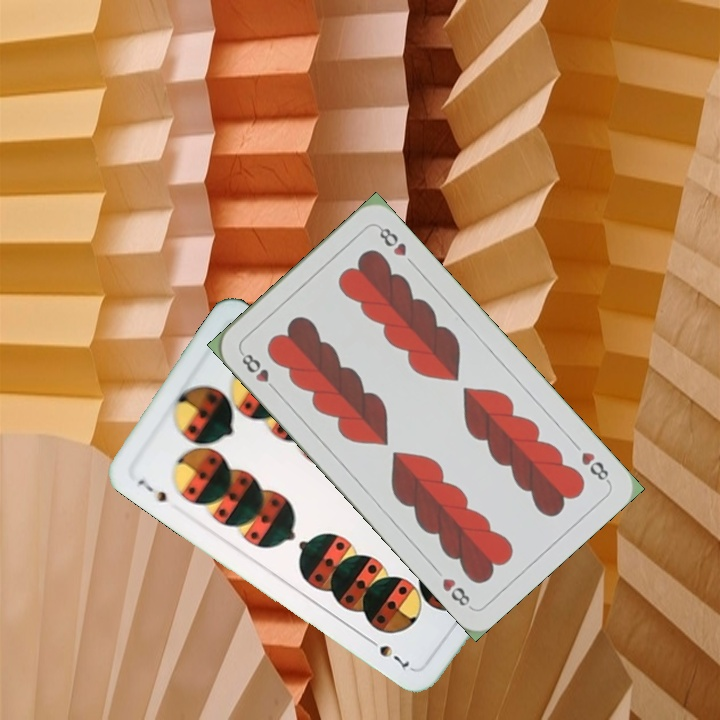H8: (236, 348, 281, 395), (577, 447, 613, 486)
S7: (133, 475, 172, 506)
